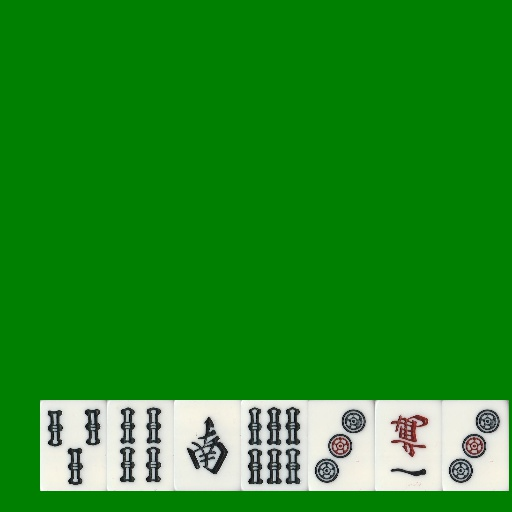1m: (375, 400, 442, 491)
3p: (308, 400, 375, 491), (442, 400, 509, 491)
3s: (40, 400, 107, 491)
4s: (107, 400, 174, 491)
6s: (241, 400, 308, 491)
south: (174, 400, 241, 491)
